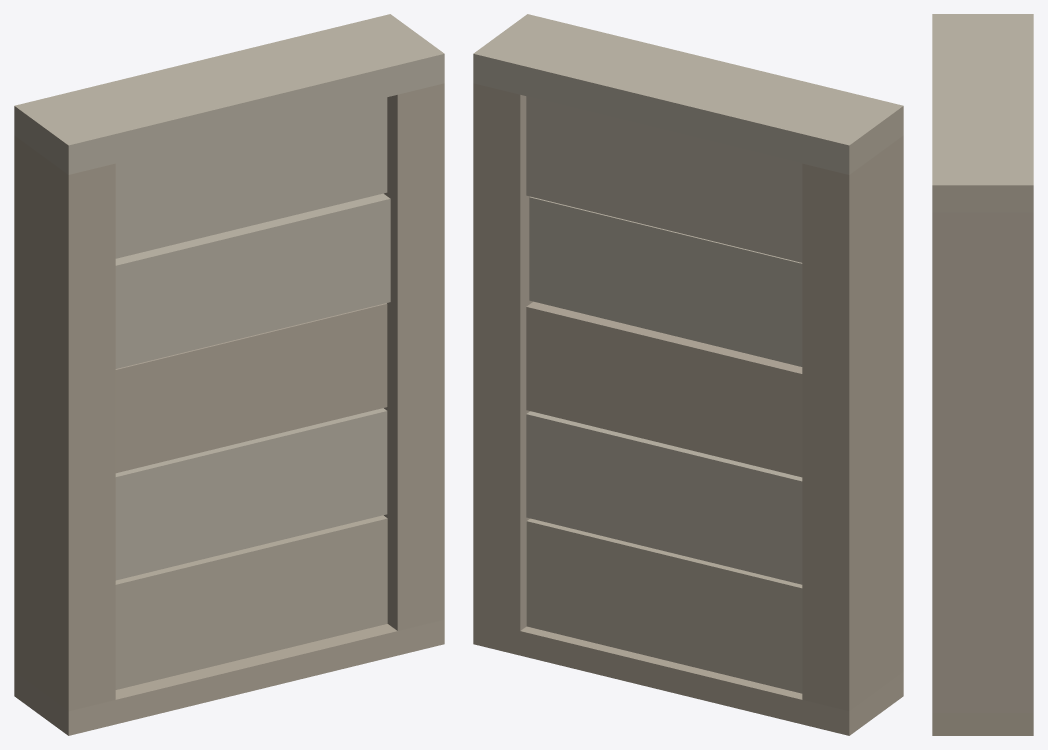
The model's file is Wall4.glb.
3 views of the same model, side by side, from view 1: azimuth 30°, elevation 25°; view 2: azimuth 150°, elevation 25°; view 3: azimuth 270°, elevation 25° (orthographic). The views are drawn at different scales.
Visible parts, largest first — view 1: Wood; view 2: Wood; view 3: Wood.
Boxes of the visible parts, left/top/right/bottom form: Wood: left=14, top=14, right=444, bottom=735; Wood: left=473, top=14, right=903, bottom=735; Wood: left=932, top=14, right=1033, bottom=735.
Size of what is drawn, in the model's own units: 4 by 6 by 1.
